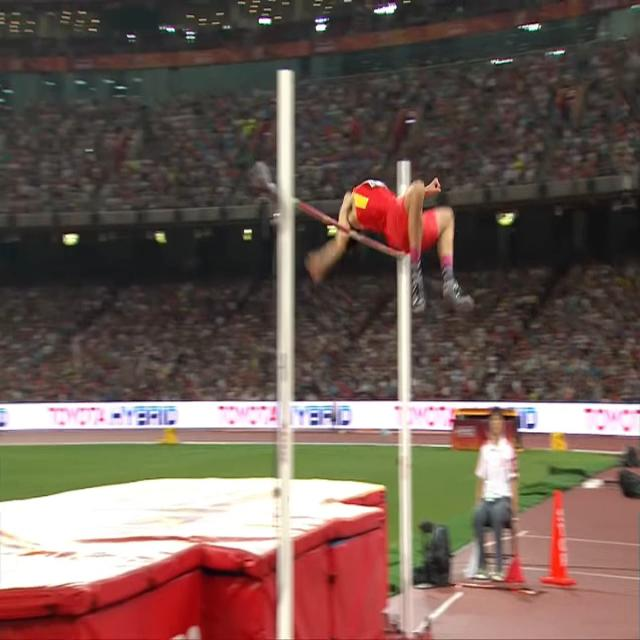jump: (308, 178, 472, 314)
